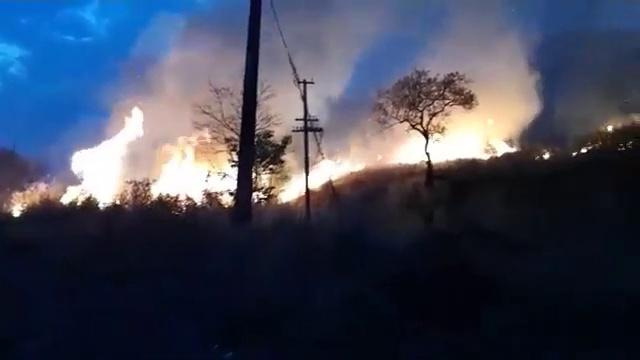fire: (153, 159, 235, 200), (74, 145, 123, 201), (433, 123, 496, 159), (279, 174, 305, 202), (316, 158, 342, 179)
